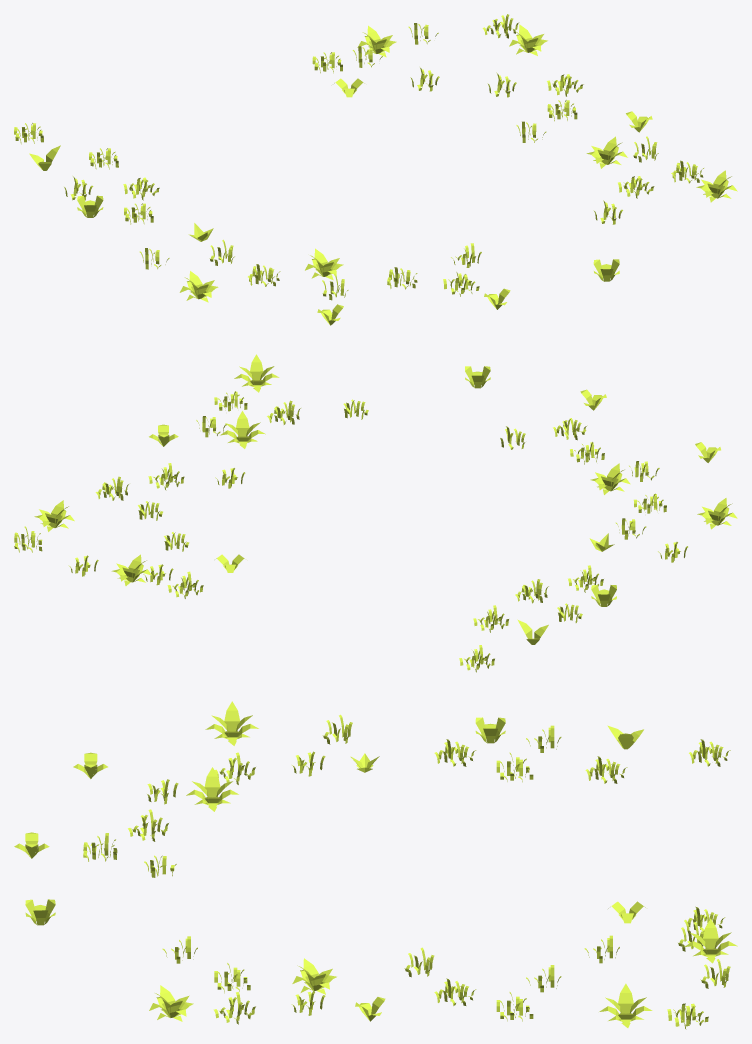
The model's file is Tile_House_2_Grass.fbx.
The picture shows the model from 3 angles, top to bottom: view 1: azimuth 30°, elevation 25°; view 2: azimuth 150°, elevation 25°; view 3: azimuth 270°, elevation 25°; orthographic projection. The views are drawn at different scales.
Visible parts, largest first — view 1: plant_bushDetailed.005; view 2: plant_bushDetailed.005; view 3: plant_bushDetailed.005.
Part boxes in pixels (x1=…): plant_bushDetailed.005: x1=14, y1=14, x2=737, y2=325; plant_bushDetailed.005: x1=14, y1=354, x2=737, y2=672; plant_bushDetailed.005: x1=14, y1=701, x2=737, y2=1029.
Bounding box in the file's own units: 248 × 11.18 × 249.
